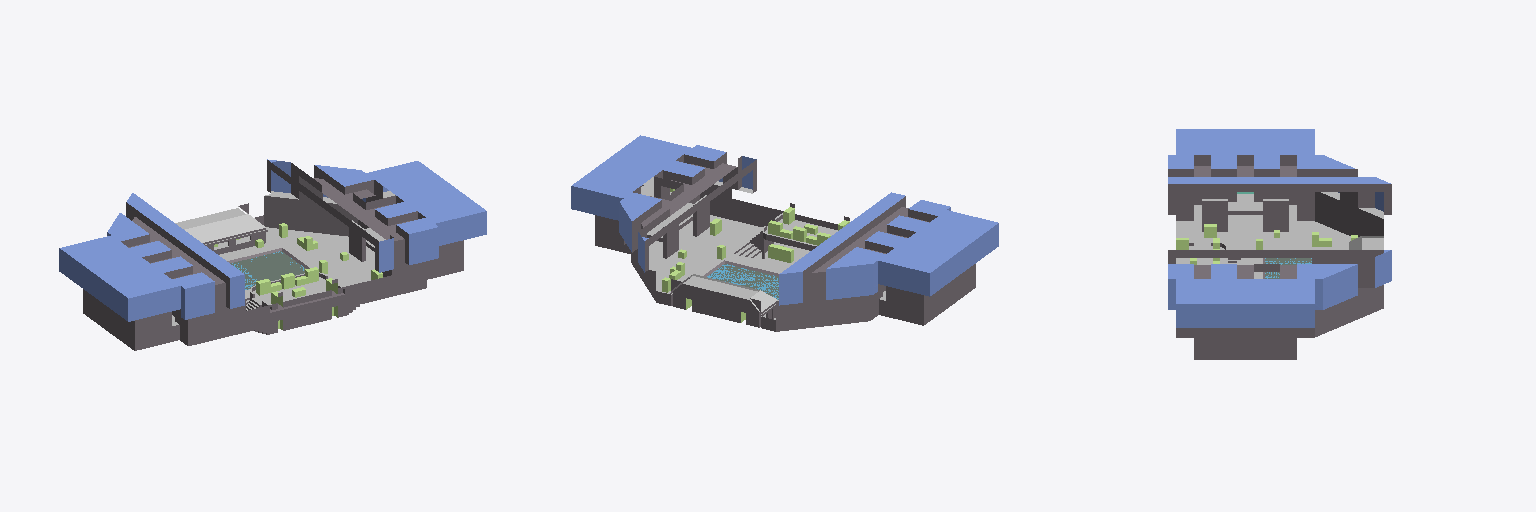
3 renders of one model, left to right at view 1: azimuth 30°, elevation 25°; view 2: azimuth 150°, elevation 25°; view 3: azimuth 270°, elevation 25°, orthographic.
Parts seen in each view (by area): view 1: world_geometry.001; view 2: world_geometry.001; view 3: world_geometry.001.
Boxes of the visible parts, x1,y1,x2,y2 form: world_geometry.001: [59, 159, 486, 350]; world_geometry.001: [571, 135, 998, 331]; world_geometry.001: [1168, 129, 1391, 359].
Size of the model in its own units: 58.52 by 12.19 by 31.7.